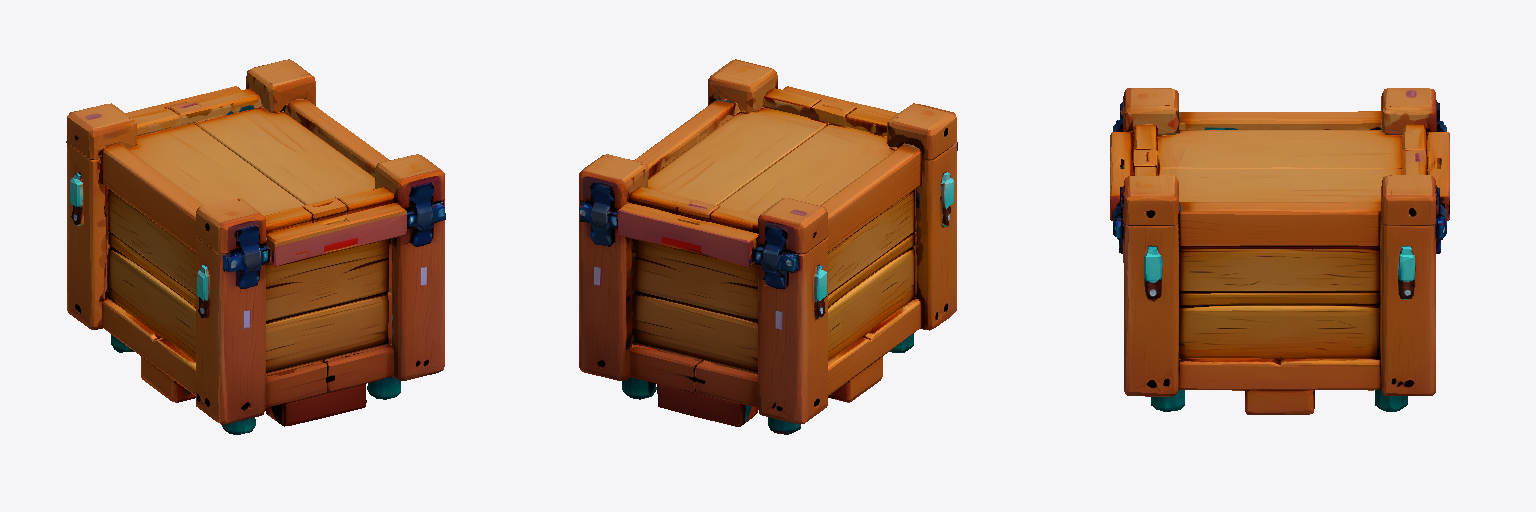
3 renders of one model, left to right at view 1: azimuth 30°, elevation 25°; view 2: azimuth 150°, elevation 25°; view 3: azimuth 270°, elevation 25°, orthographic.
Visible parts, largest first — view 1: 0_1234_30_5.0_384_8000; view 2: 0_1234_30_5.0_384_8000; view 3: 0_1234_30_5.0_384_8000.
Part boxes in pixels (x1,y1,x2,y2): 0_1234_30_5.0_384_8000: (66, 59, 445, 434); 0_1234_30_5.0_384_8000: (579, 59, 957, 434); 0_1234_30_5.0_384_8000: (1110, 88, 1449, 414).
Bounding box in the file's own units: 1.62 × 1.49 × 1.99.
Materials: 1 (1 with a texture image).